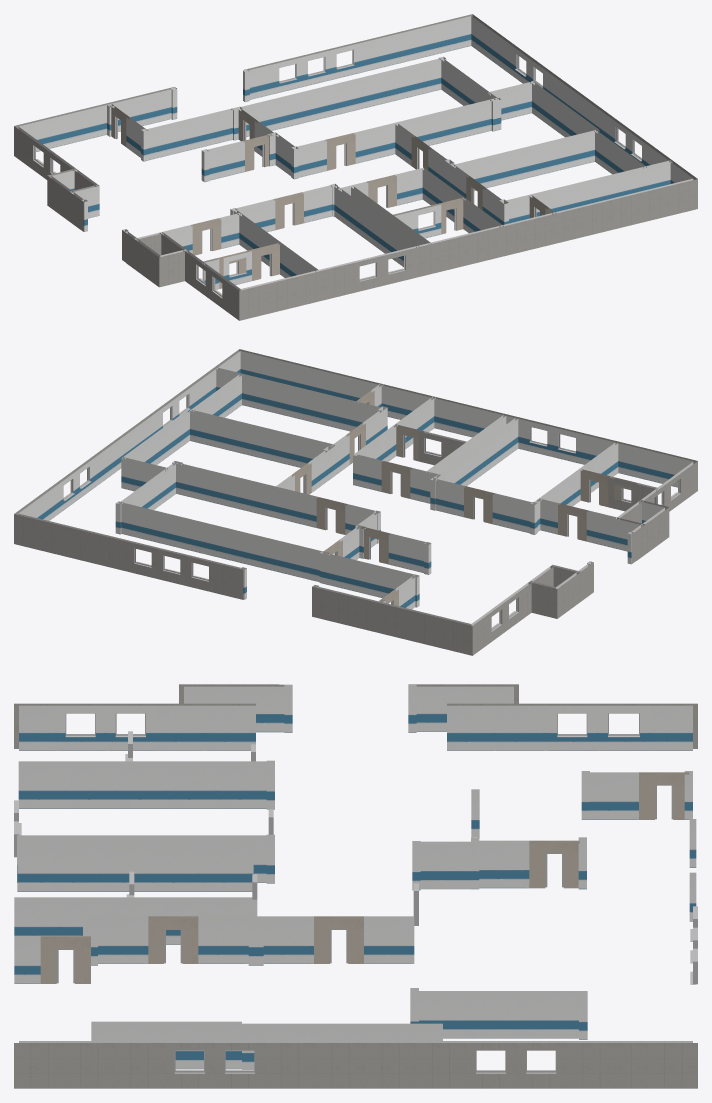
The model's file is Structure_Fixtest_03.fbx.
3 views of the same model, one above another, from view 1: azimuth 30°, elevation 25°; view 2: azimuth 150°, elevation 25°; view 3: azimuth 270°, elevation 25° (orthographic). The views are drawn at different scales.
Parts seen in each view (by area): view 1: st_Floor_Walls; view 2: st_Floor_Walls; view 3: st_Floor_Walls.
Part boxes in pixels (<box>): st_Floor_Walls: <box>14,14,697,320</box>; st_Floor_Walls: <box>14,349,697,655</box>; st_Floor_Walls: <box>14,684,697,1088</box>.
Size of the model in its own units: 5070 by 300 by 4087.
